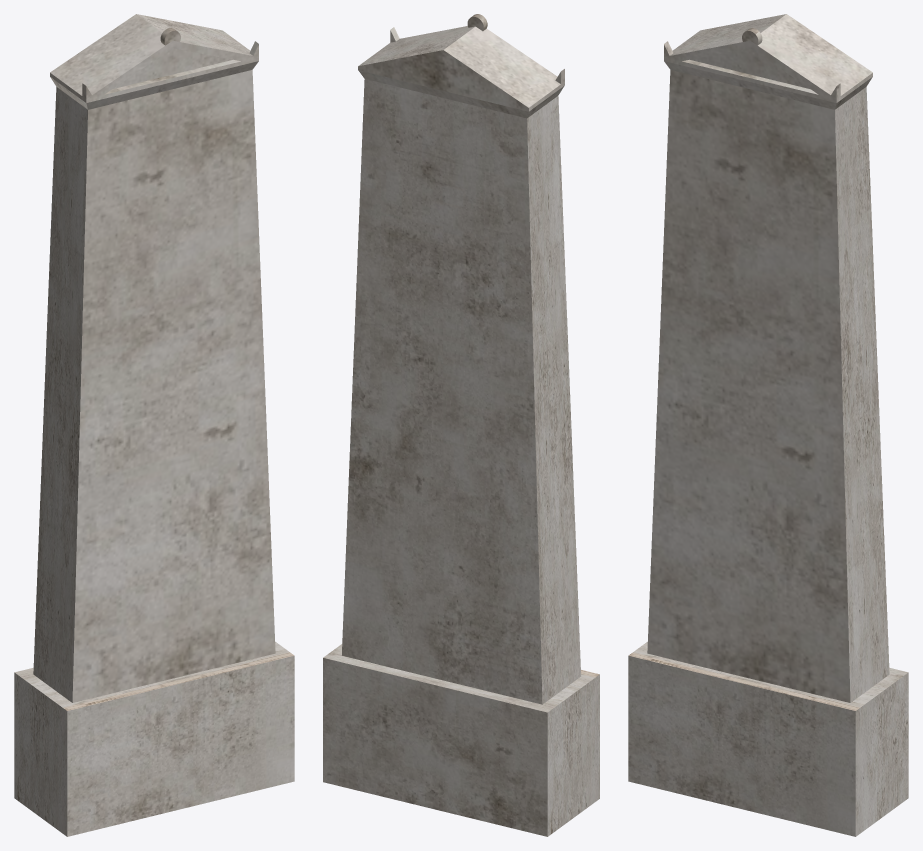
The model's file is grave3.fbx.
The picture shows the model from 3 angles, left to right: view 1: azimuth 30°, elevation 25°; view 2: azimuth 150°, elevation 25°; view 3: azimuth 330°, elevation 25°; orthographic projection.
Visible parts, largest first — view 1: Group1; view 2: Group1; view 3: Group1.
Boxes of the visible parts, x1=… form: Group1: x1=14, y1=14, x2=294, y2=836; Group1: x1=323, y1=14, x2=599, y2=836; Group1: x1=628, y1=14, x2=908, y2=836.
Size of the model in its own units: 1219 by 3957 by 491.
